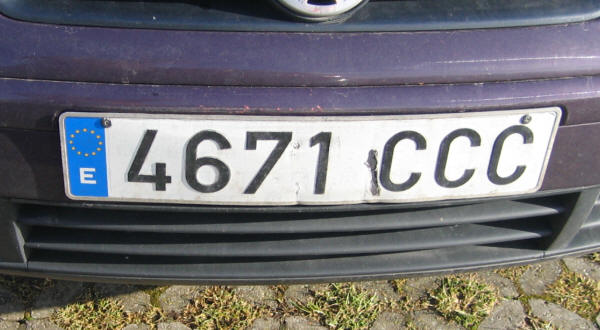license_plate: (60, 110, 565, 201)
